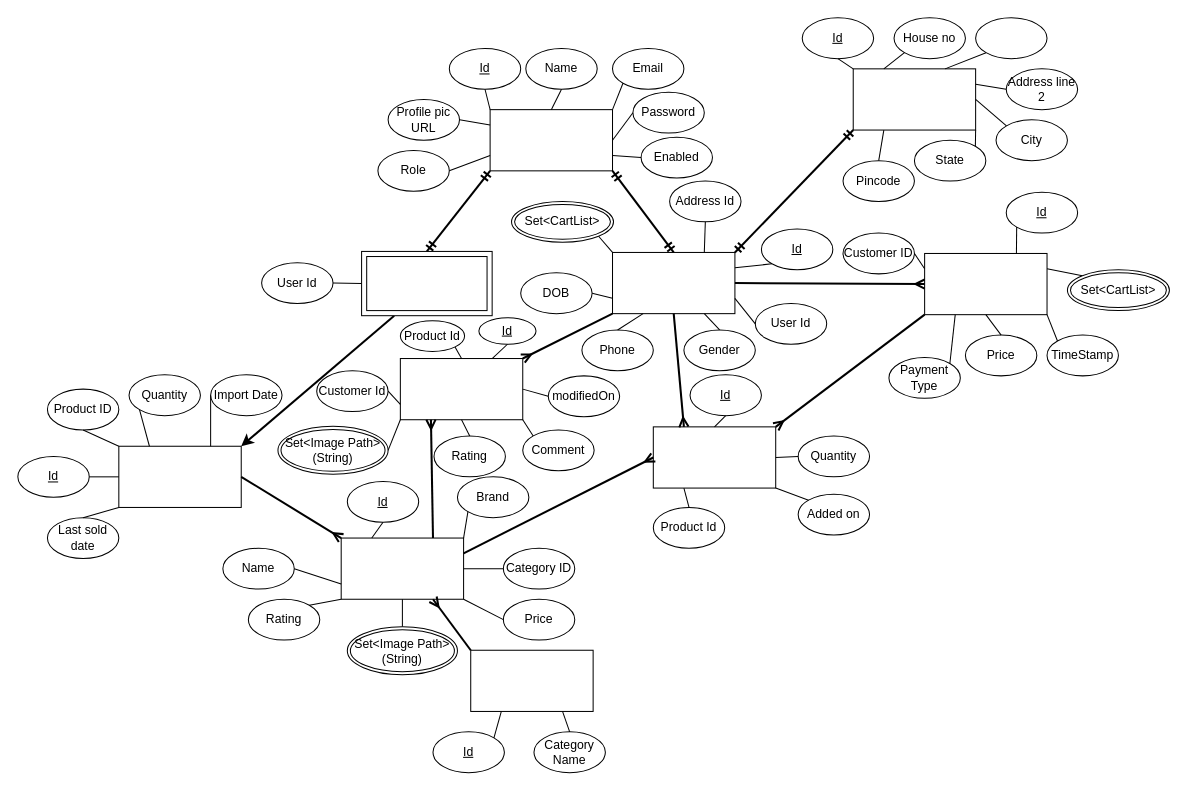
Some shapes in this 1187 by 791 pixel diagram are drawn without their labels. Here are the shapes that lost their labels. From the top down, the centre of each, then its label:
At pixel 1011 38: "Address line 1".
At pixel 914 99: "Address".
At pixel 551 140: "User".
At pixel 426 283: "Manager".
At pixel 673 282: "Customer".
At pixel 985 283: "Order".
At pixel 461 389: "Review".
At pixel 179 476: "Inventory".
At pixel 714 457: "CartList".
At pixel 402 568: "Product".
At pixel 531 680: "Category".
